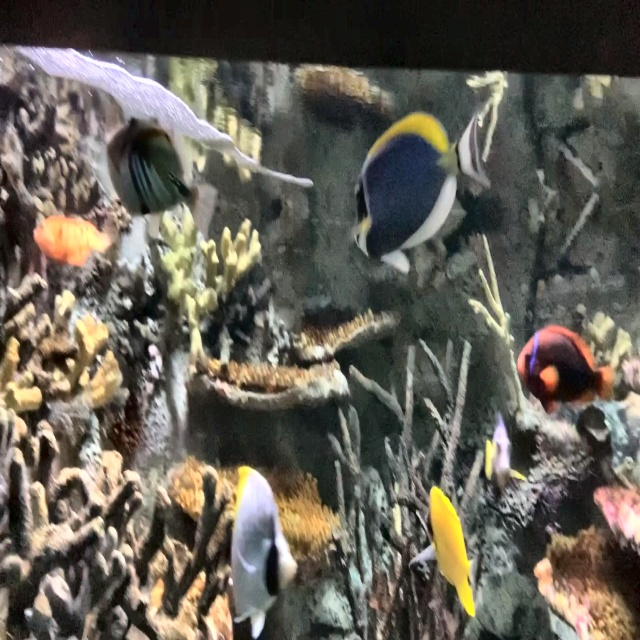fish: (353, 98, 497, 275), (231, 455, 300, 639), (106, 113, 200, 222), (517, 321, 616, 420), (417, 483, 482, 623), (34, 215, 113, 270), (484, 414, 528, 500)
